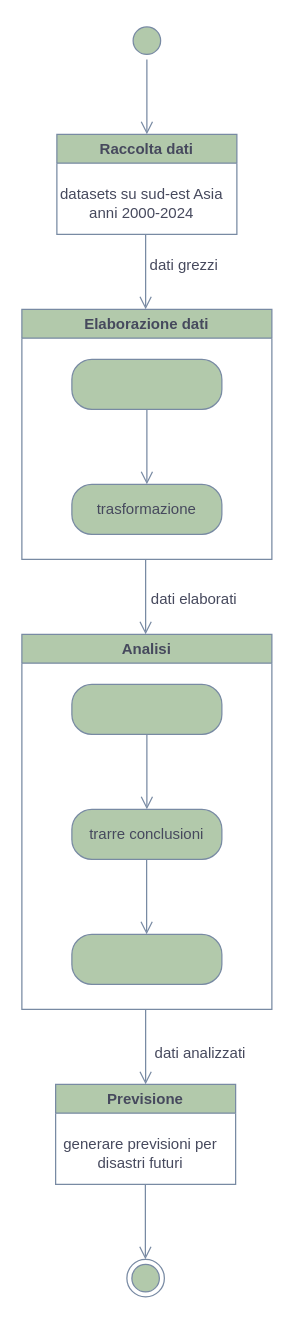
The diagram is 294 pixels wide and 1319 high, and some of its shapes have lost their labels. Here are the shapes that lost their labels. From the top down, the centre of each, then its label:
At pixel 146 383: "pulizia".
At pixel 146 708: "revisione circostanze locali".
At pixel 146 958: "visualizzazione dati".
